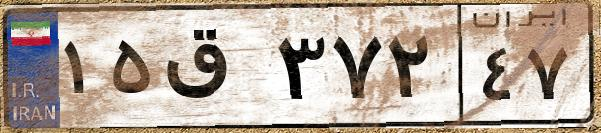1: (57, 26, 110, 100)
2: (385, 28, 445, 110)
3: (270, 28, 330, 110)
4: (475, 38, 525, 113)
5: (110, 28, 158, 98)
7: (330, 28, 385, 110), (525, 38, 570, 115)
ق: (158, 20, 270, 120)
